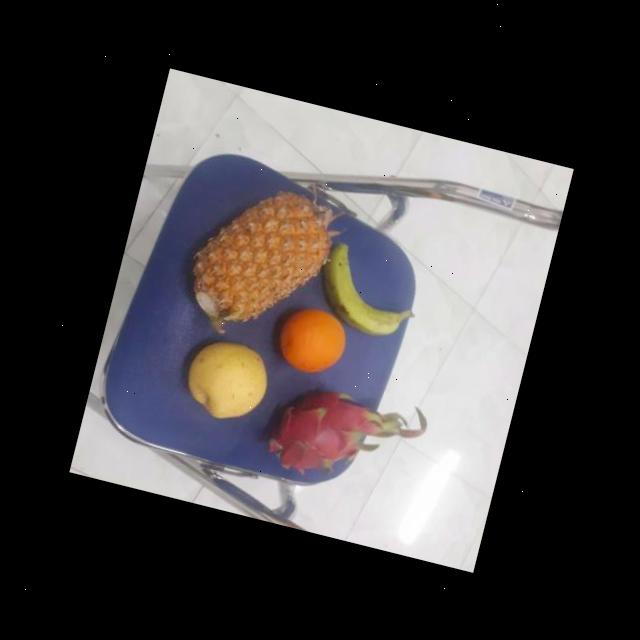orange: (270, 296, 354, 381)
pear: (176, 328, 274, 428)
pineapple: (182, 170, 342, 346)
pitaya: (304, 208, 432, 352), (255, 371, 382, 488)
